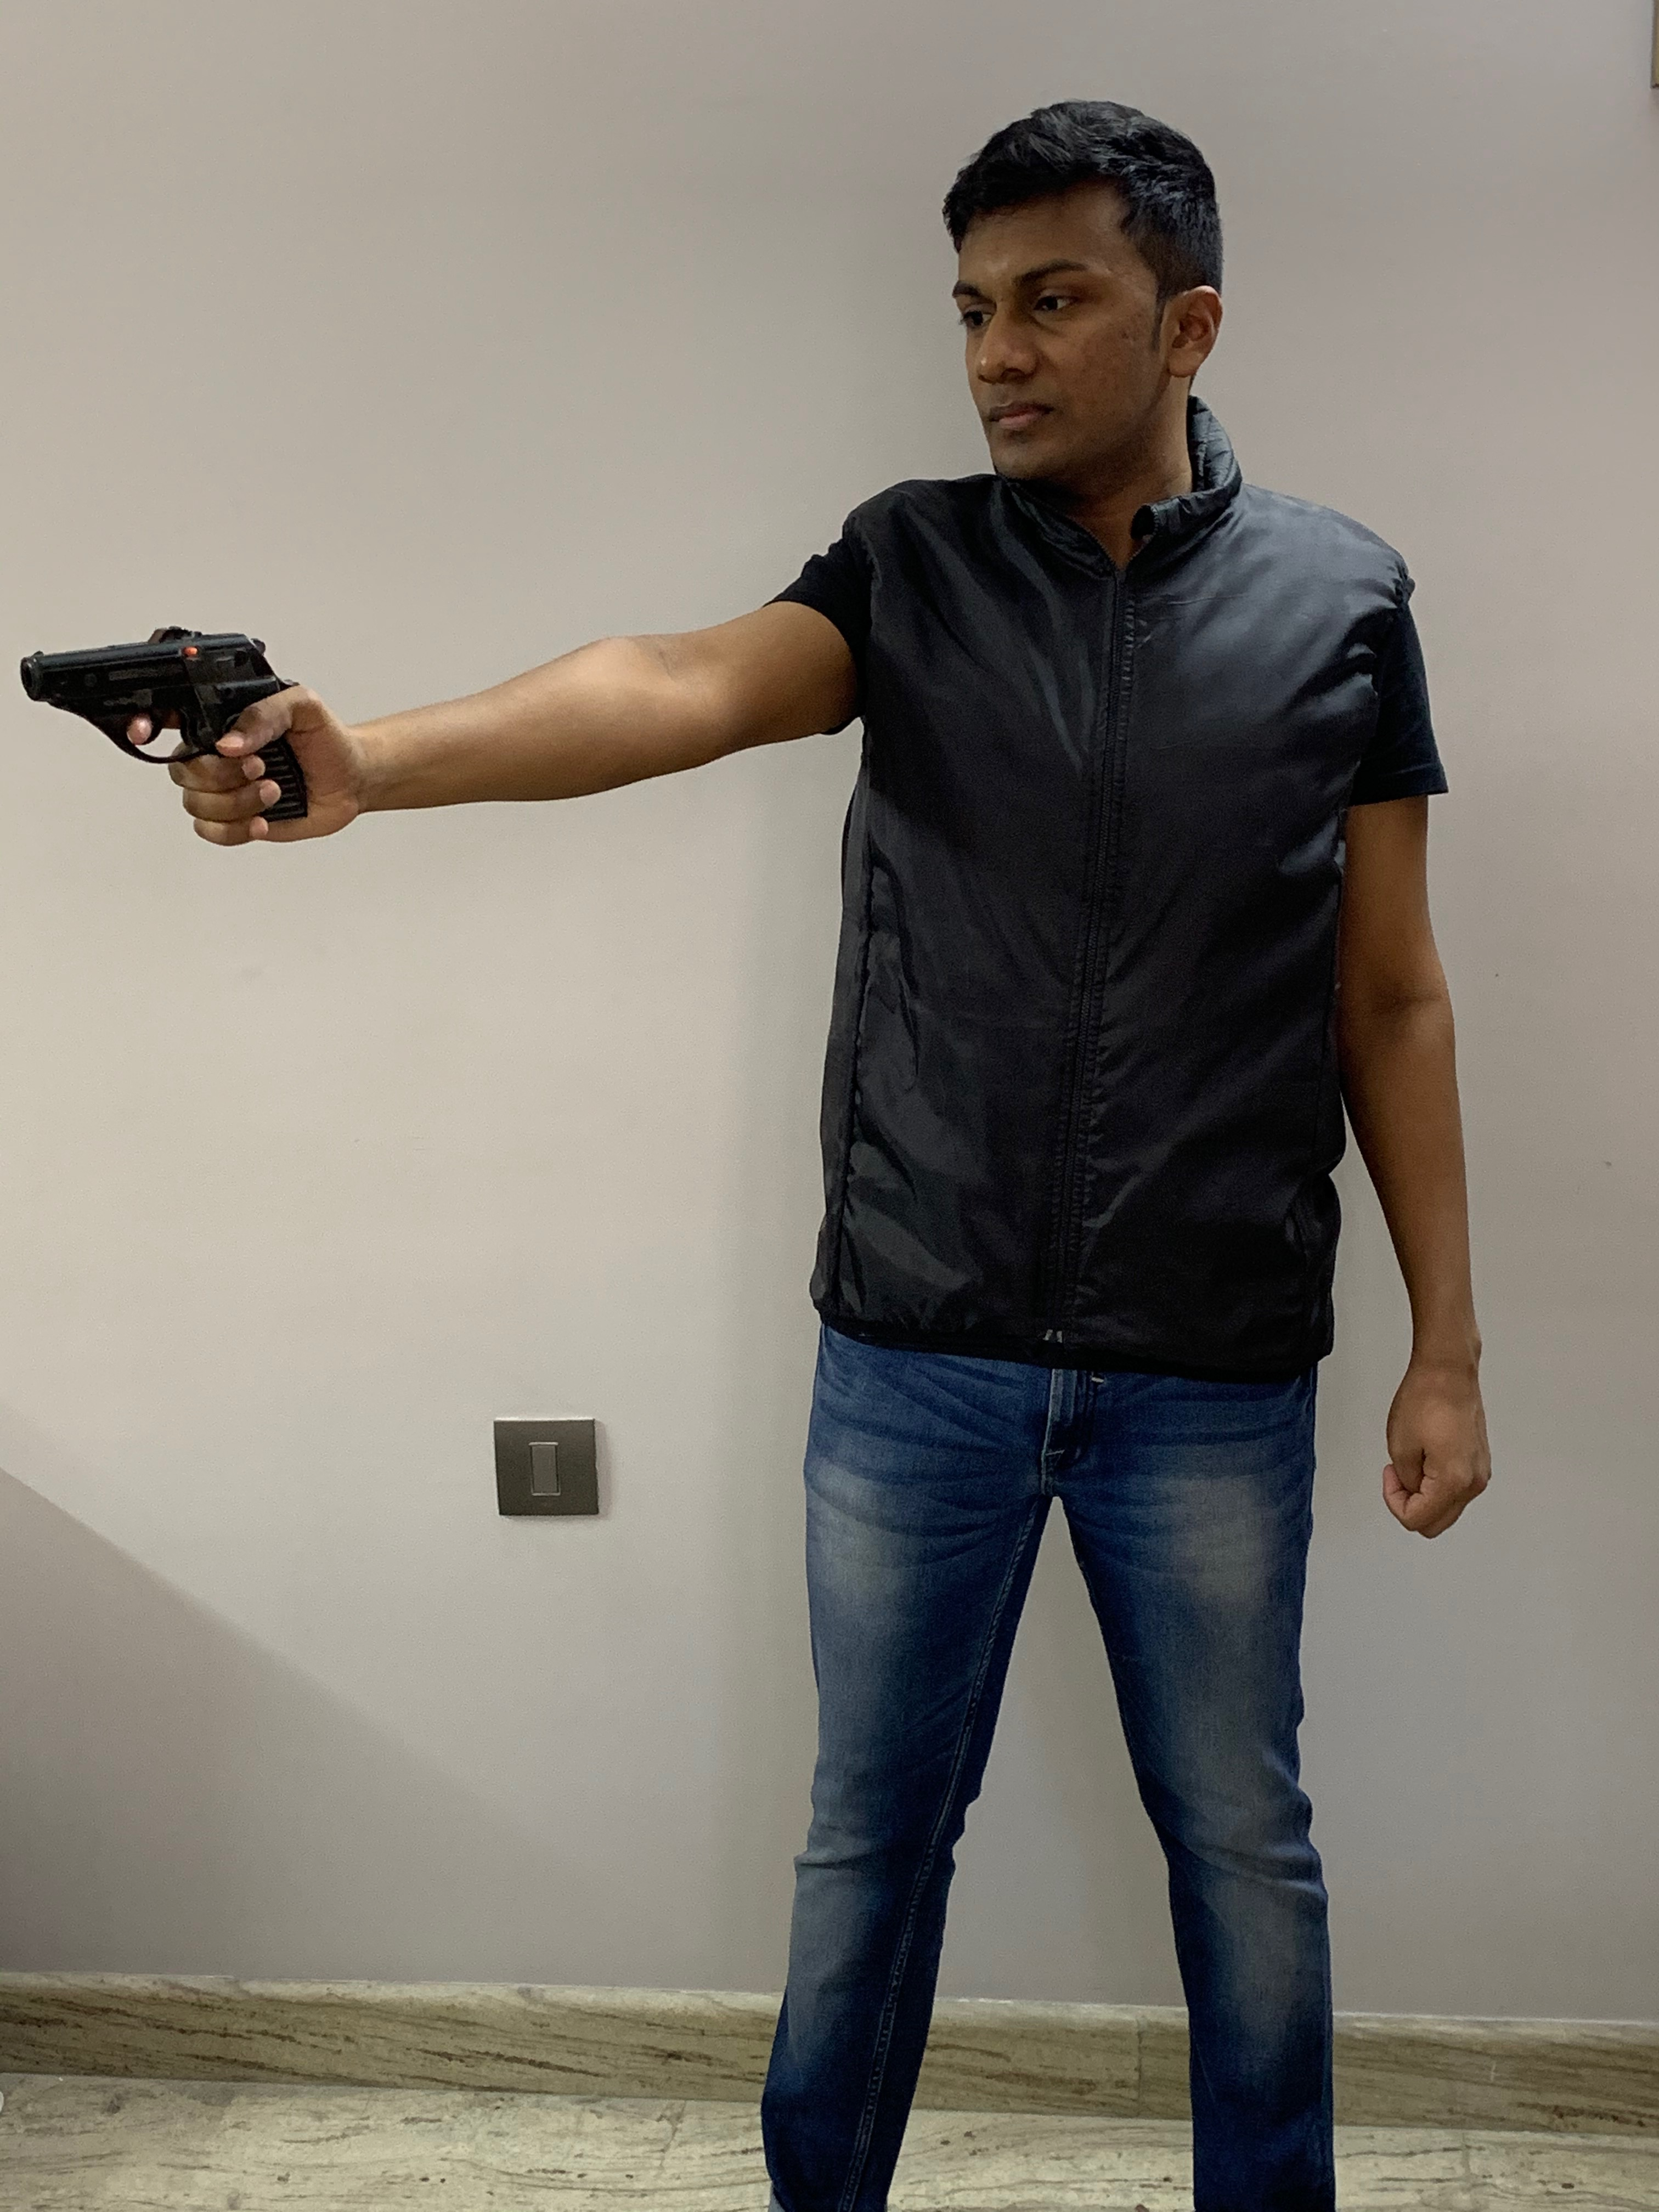gun: (19, 624, 314, 836)
